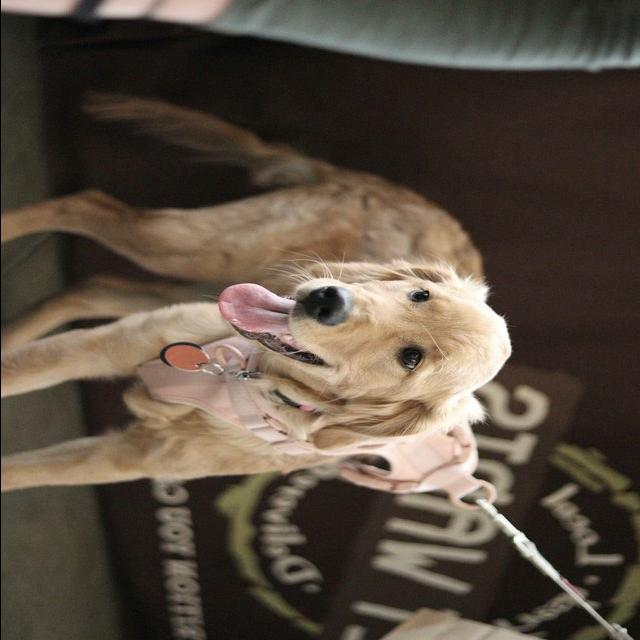retriever: (2, 92, 513, 499)
